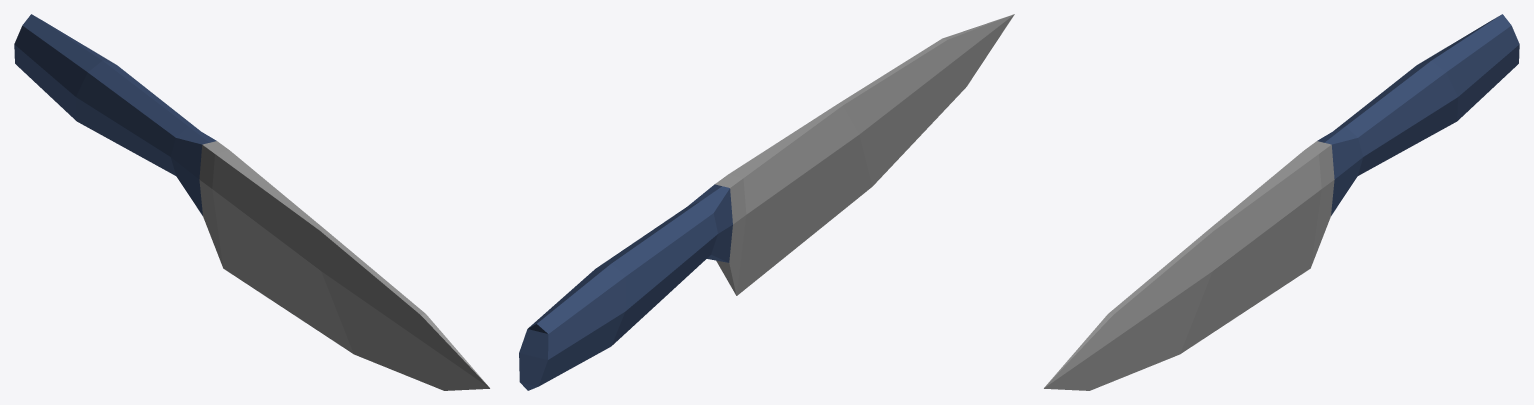
File: knife_8.fbx
3 views of the same model, side by side, from view 1: azimuth 30°, elevation 25°; view 2: azimuth 150°, elevation 25°; view 3: azimuth 330°, elevation 25° (orthographic). The views are drawn at different scales.
Parts seen in each view (by area): view 1: knife_8; view 2: knife_8; view 3: knife_8.
Part boxes in pixels (bbox=[...]): knife_8: bbox=[14, 14, 489, 390]; knife_8: bbox=[519, 14, 1014, 390]; knife_8: bbox=[1044, 14, 1519, 390].
Bounding box in the file's own units: 2.76 × 7.78 × 55.21.
Materials: 1 (1 with a texture image).
